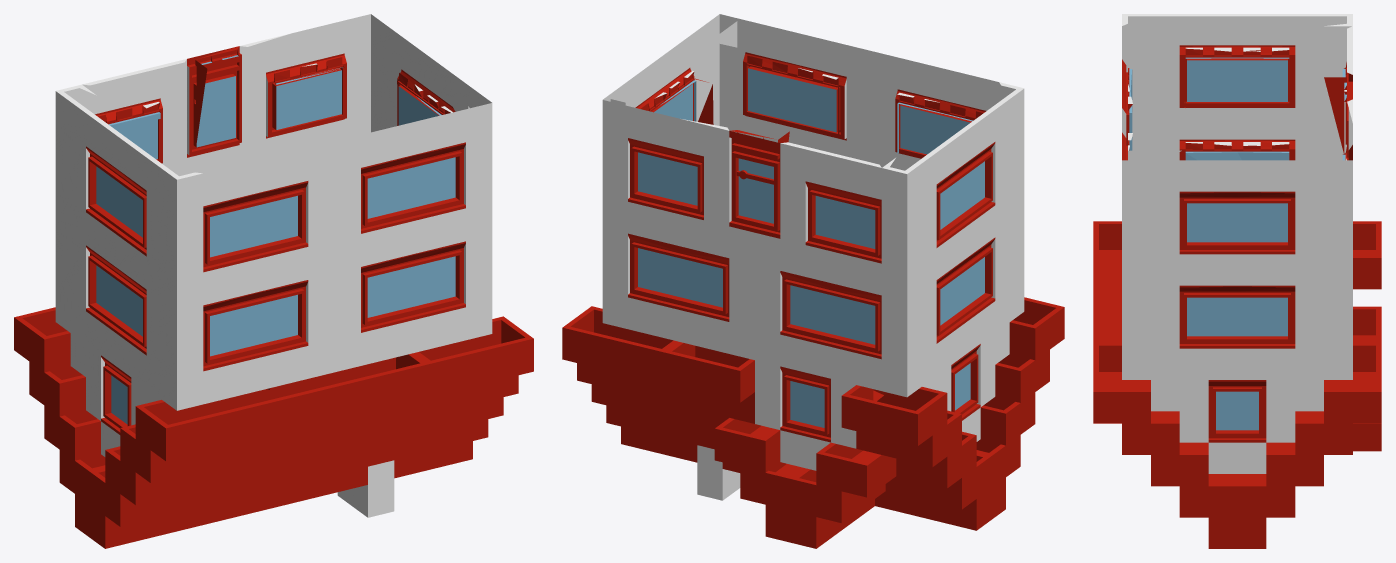
Rendered from White Two Storey House.obj.
3 renders of one model, left to right at view 1: azimuth 30°, elevation 25°; view 2: azimuth 150°, elevation 25°; view 3: azimuth 270°, elevation 25°, orthographic. The views are drawn at different scales.
Parts seen in each view (by area): view 1: default; view 2: default; view 3: default.
Part boxes in pixels (left/top/right/bottom): default: left=14, top=14, right=533, bottom=548; default: left=562, top=14, right=1064, bottom=548; default: left=1093, top=14, right=1381, bottom=548.
Bounding box in the file's own units: 280 × 312 × 200.
